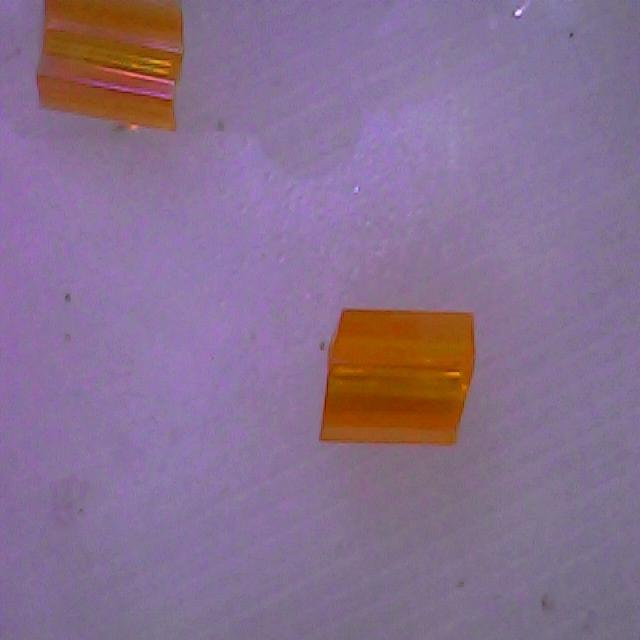fragments: (322, 309, 476, 445), (32, 0, 188, 129)
